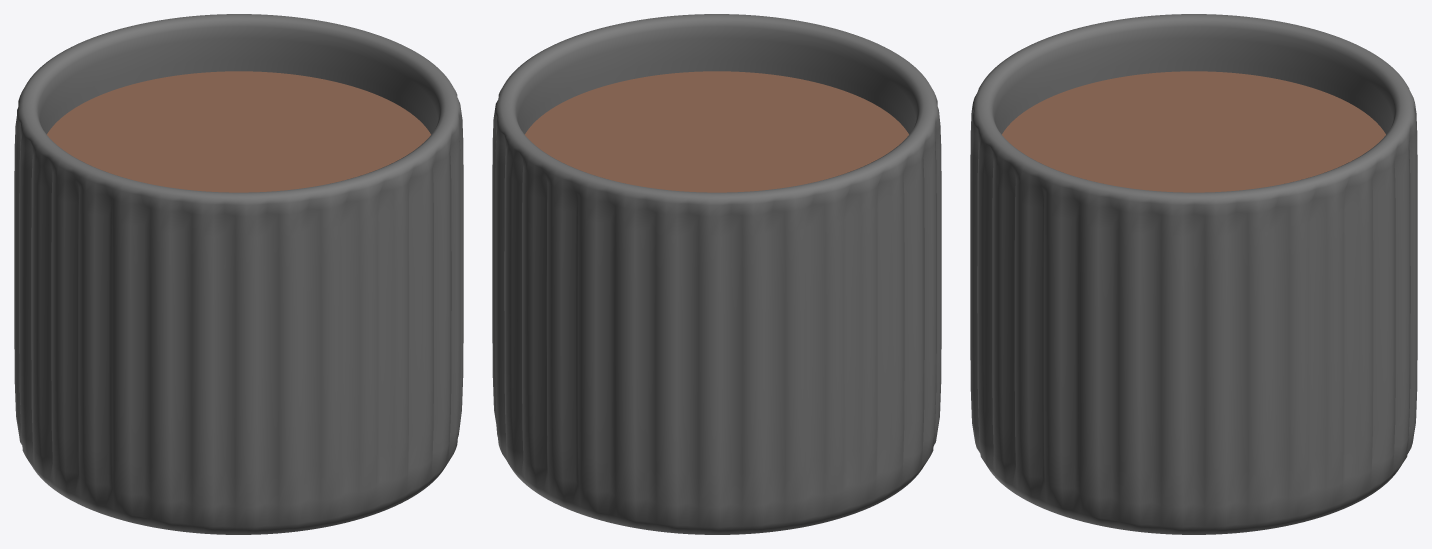
File: fluted_grey.glb
3 renders of one model, left to right at view 1: azimuth 30°, elevation 25°; view 2: azimuth 150°, elevation 25°; view 3: azimuth 270°, elevation 25°, orthographic.
Parts seen in each view (by area): view 1: Circle.011, Circle.010; view 2: Circle.011, Circle.010; view 3: Circle.011, Circle.010.
Boxes of the visible parts, bbox=[...] form: Circle.011: bbox=[14, 14, 463, 534]; Circle.010: bbox=[47, 71, 430, 192]; Circle.011: bbox=[492, 14, 941, 534]; Circle.010: bbox=[525, 71, 908, 192]; Circle.011: bbox=[970, 14, 1417, 534]; Circle.010: bbox=[1002, 71, 1385, 192].
Size of the model in its own units: 11.66 by 9.97 by 11.66.
